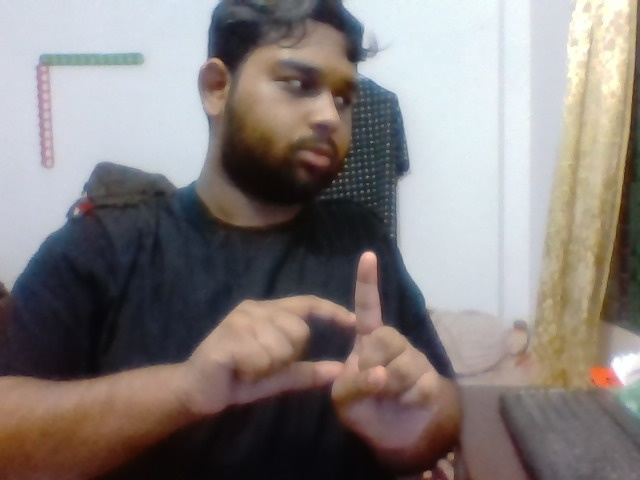D: (210, 240, 446, 443)
